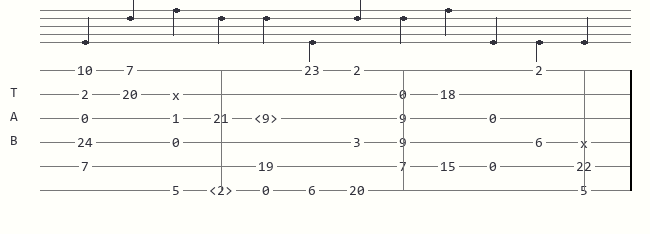0: (81, 112, 93, 125), (172, 136, 184, 149), (262, 184, 274, 197), (399, 88, 411, 101), (489, 160, 501, 173), (489, 112, 501, 125)
1: (172, 112, 184, 125)
10: (77, 64, 97, 77)
15: (440, 160, 460, 173)
18: (440, 88, 460, 101)
19: (258, 160, 278, 173)
2: (81, 88, 93, 101), (353, 64, 365, 77), (535, 64, 547, 77)
20: (122, 88, 142, 101), (349, 184, 369, 197)
21: (213, 112, 233, 125)
22: (576, 160, 596, 173)
23: (304, 64, 324, 77)
24: (77, 136, 97, 149)
3: (353, 136, 365, 149)
5: (172, 184, 184, 197), (580, 184, 592, 197)
6: (308, 184, 320, 197), (535, 136, 547, 149)
7: (81, 160, 93, 173), (126, 64, 138, 77), (399, 160, 411, 173)
9: (399, 136, 411, 149), (399, 112, 411, 125)
harmonic: (209, 184, 237, 197), (254, 112, 282, 125)
x: (172, 89, 184, 100), (580, 137, 592, 148)
